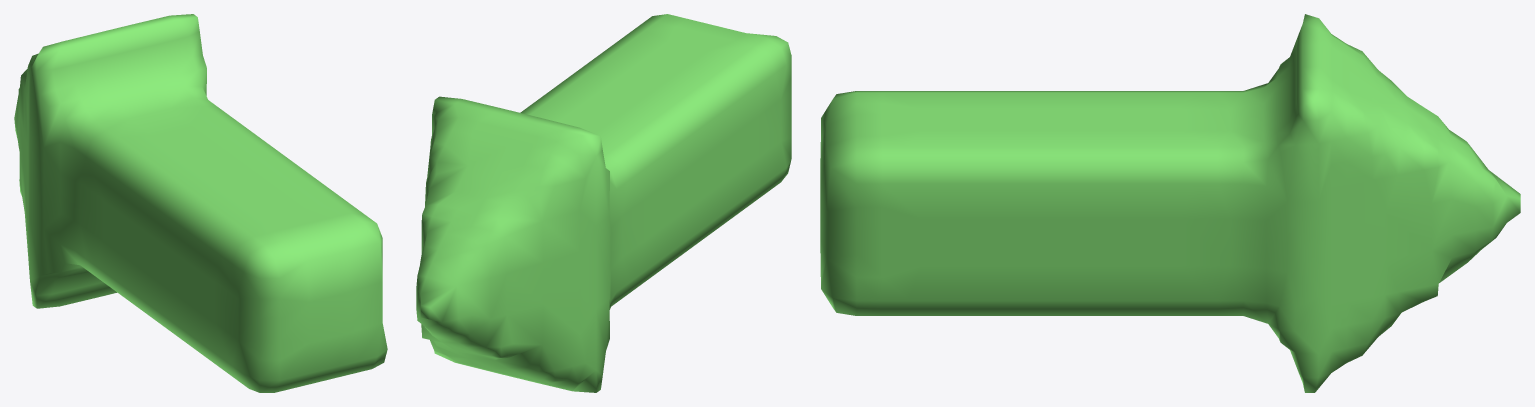
File: arrow.glb
The picture shows the model from 3 angles, left to right: view 1: azimuth 30°, elevation 25°; view 2: azimuth 150°, elevation 25°; view 3: azimuth 270°, elevation 25°; orthographic projection. The views are drawn at different scales.
Parts seen in each view (by area): view 1: Cube; view 2: Cube; view 3: Cube.
Part boxes in pixels (box(x1,y1,x2,y2)): Cube: box(14, 14, 387, 392); Cube: box(416, 14, 791, 392); Cube: box(820, 14, 1520, 392).
Bounding box in the file's own units: 2.36 × 3.53 × 7.6.
